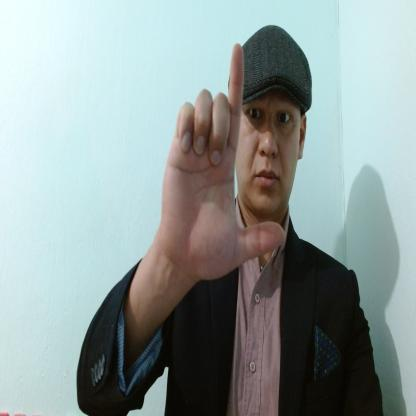L: (160, 43, 288, 280)
